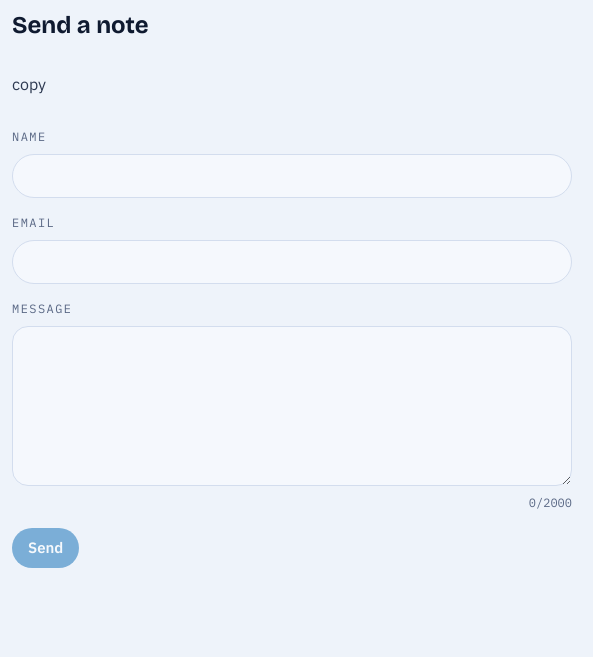
Scenario: ContactForm submit › 202 clears the form and renders successText
The width and height of the screenshot is (593, 657).
In the field labelled "Name": (292, 176) top-left (12, 154), bottom-right (572, 198), type "Bob"
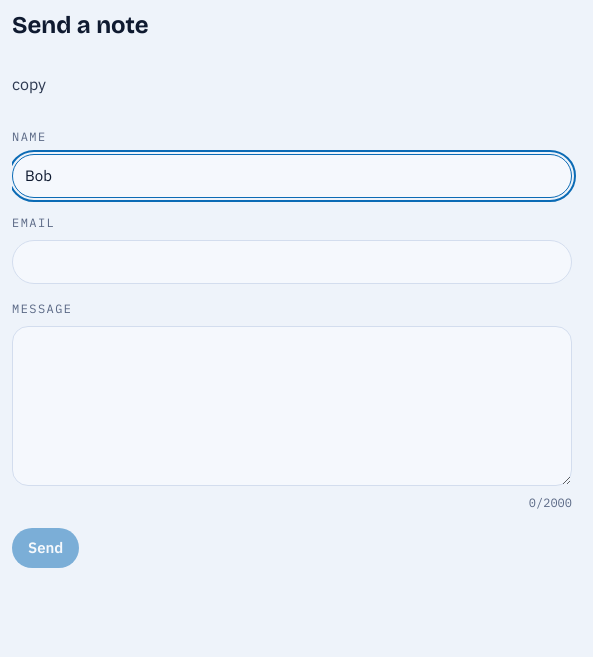
In the field labelled "Email": (292, 262) top-left (12, 240), bottom-right (572, 284), type "b@x.co"
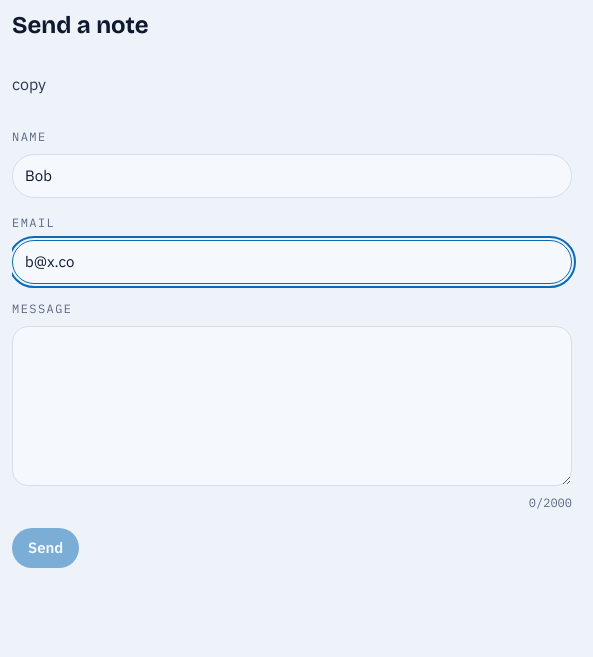
In the text box labelled "Message": (292, 406) top-left (12, 326), bottom-right (572, 486), type "hi"
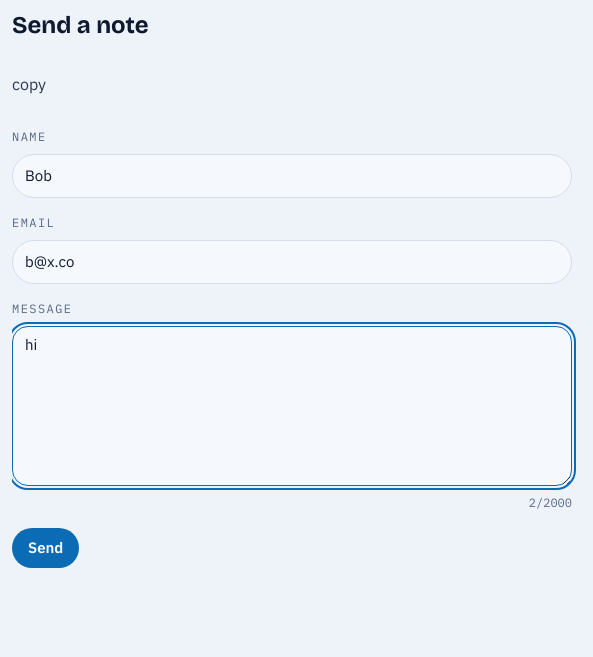
Click the button with test id "contact-submit": (46, 548) top-left (12, 528), bottom-right (79, 568)
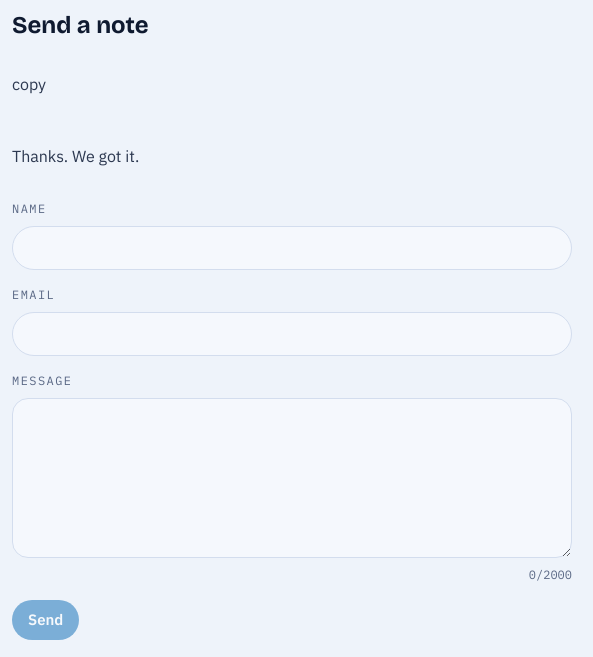
Expected: the text with test id "contact-success" reads "Thanks. We got it.", top-left (12, 146), bottom-right (139, 166)
Expected: the field labelled "Name" is empty, top-left (12, 226), bottom-right (572, 270)
